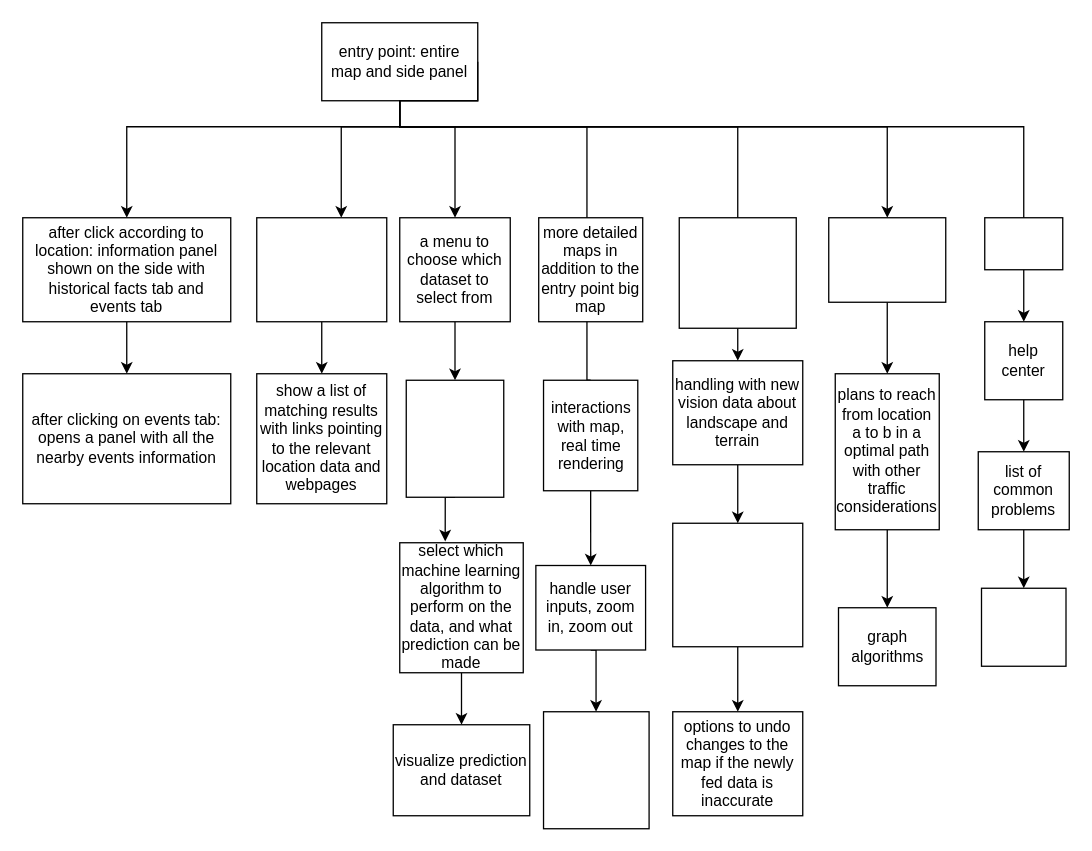
This 1092x851 diagram has some shape labels left out. Here are the shapes that lost their labels. From the top down, the centre of each, then its label:
At pixel 886 259: "path finding option".
At pixel 1023 243: "about us".
At pixel 321 269: "a search option based on keywords and coordinates".
At pixel 737 272: "a webpage that enables the user or programmer to feed new vision data".
At pixel 454 438: "an interface to perform queries on the dataset".
At pixel 737 584: "visual data processing, algorithms to reshape the map according to new data".
At pixel 1023 626: "contact us".
At pixel 595 769: "make the map change dynamically based on user's location".
